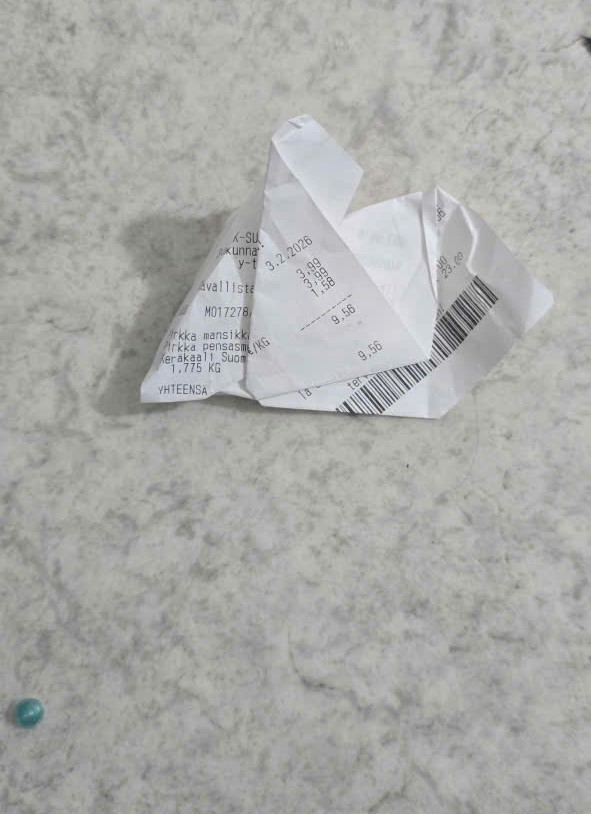paper: (132, 106, 560, 456)
